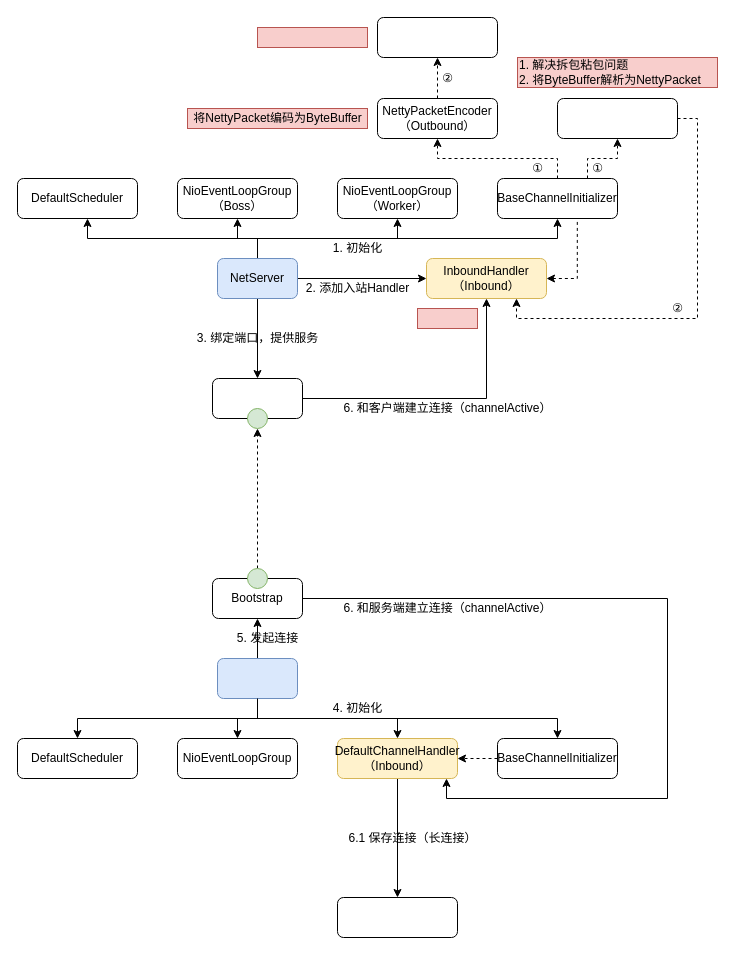
The diagram is 735 pixels wide and 955 high, and some of its shapes have lost their labels. Each missing label, with the box of its shape:
LengthFieldPrepender （Outbound）: (376, 16, 498, 58)
NetClient: (216, 658, 298, 698)
NettyPacketDecoder （Inbound）: (556, 98, 678, 138)
ServerBootstrap: (212, 378, 302, 418)
SyncRequestSupport: (336, 896, 458, 938)
业务处理: (416, 308, 478, 328)
解决拆包粘包问题: (256, 26, 368, 48)
